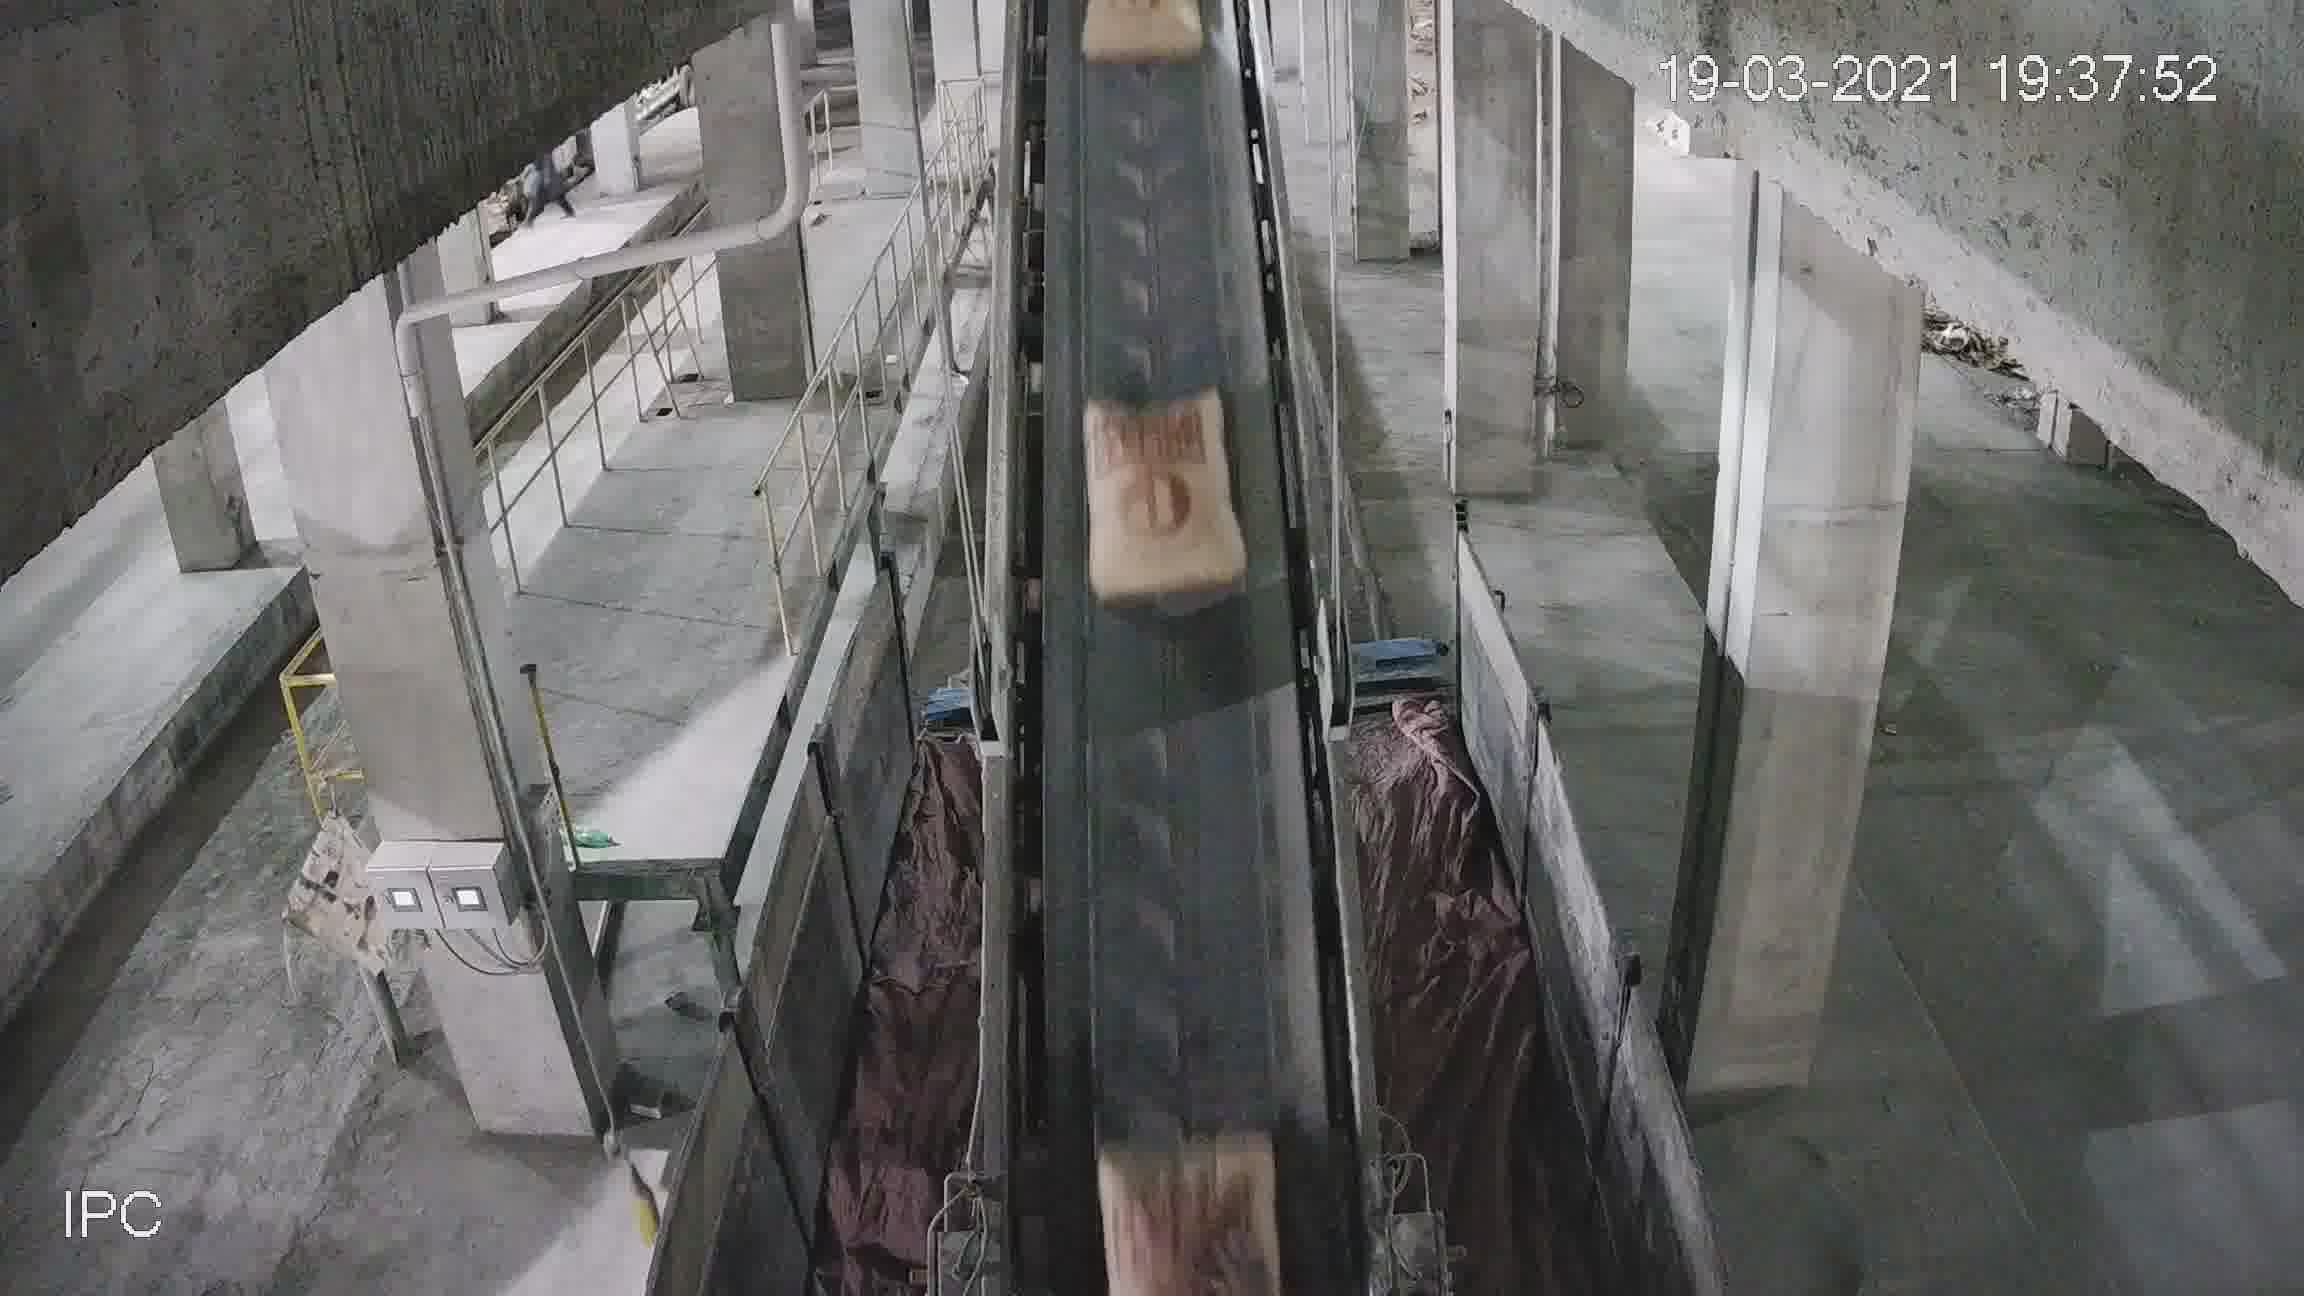bag: (1084, 388, 1234, 595), (1105, 1130, 1282, 1199), (1078, 6, 1196, 59)
belt: (975, 60, 1359, 1154)
